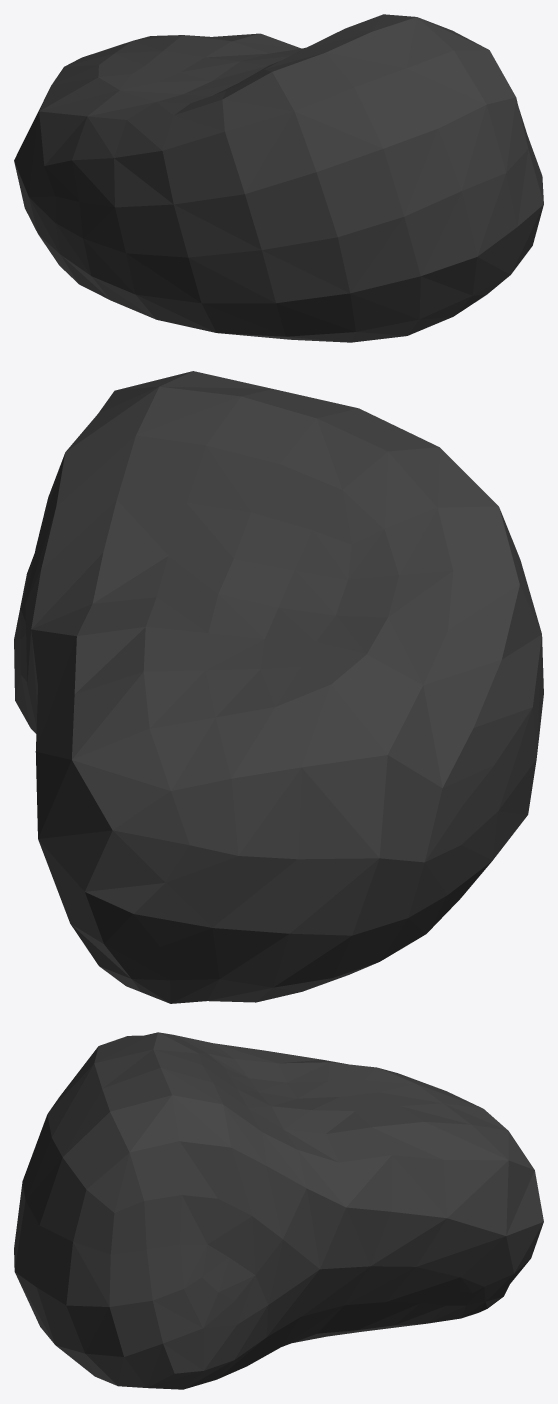
File: LFL_carpal5.glb
The picture shows the model from 3 angles, top to bottom: view 1: azimuth 30°, elevation 25°; view 2: azimuth 150°, elevation 25°; view 3: azimuth 270°, elevation 25°; orthographic projection. The views are drawn at different scales.
Visible parts, largest first — view 1: LFL_carpal5; view 2: LFL_carpal5; view 3: LFL_carpal5.
Part boxes in pixels (x1=…): LFL_carpal5: x1=14, y1=14, x2=543, y2=342; LFL_carpal5: x1=14, y1=371, x2=543, y2=1003; LFL_carpal5: x1=14, y1=1032, x2=543, y2=1389.
Bounding box in the file's own units: 7.83 × 5.61 × 9.04.
Materials: 1 (1 with a texture image).
